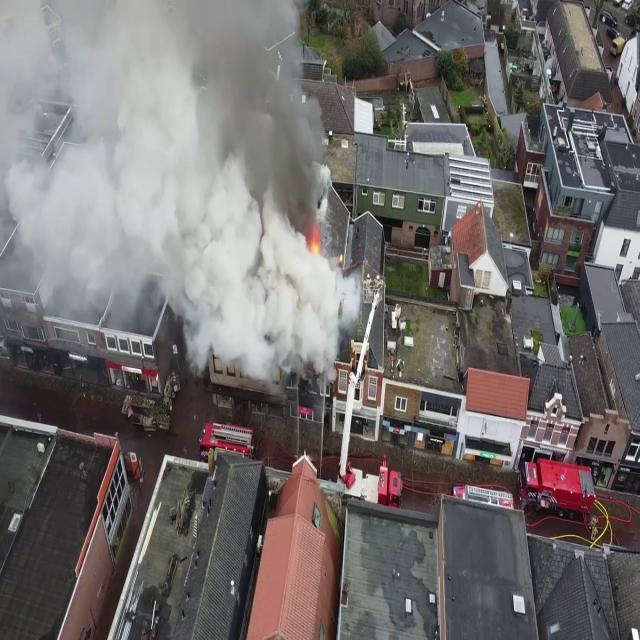Fire: (307, 224, 323, 260)
Smoke: (0, 0, 343, 374)
